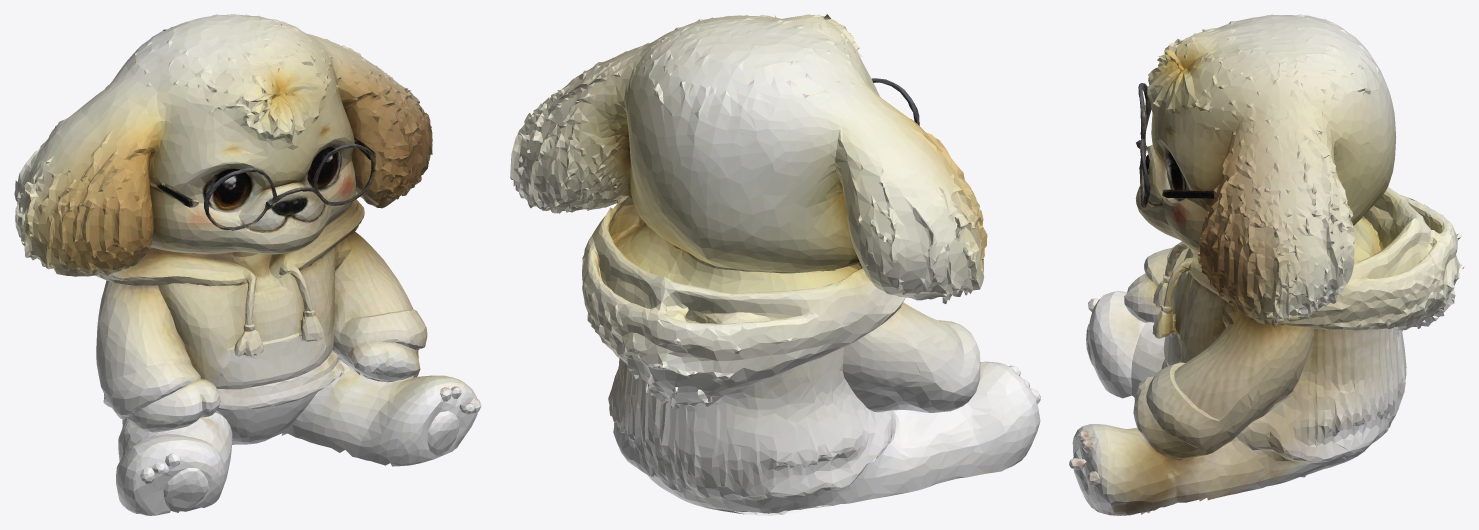
File: clo.glb
The picture shows the model from 3 angles, left to right: view 1: azimuth 30°, elevation 25°; view 2: azimuth 150°, elevation 25°; view 3: azimuth 270°, elevation 25°; orthographic projection. The views are drawn at different scales.
Parts seen in each view (by area): view 1: char_clo_model; view 2: char_clo_model; view 3: char_clo_model.
Part boxes in pixels (x1,y1,x2,y2): char_clo_model: (14,14,481,515); char_clo_model: (510,14,1040,515); char_clo_model: (1069,14,1464,515).
Size of the model in its own units: 0.9729 by 0.8906 by 0.7862.
Materials: 1 (1 with a texture image).
